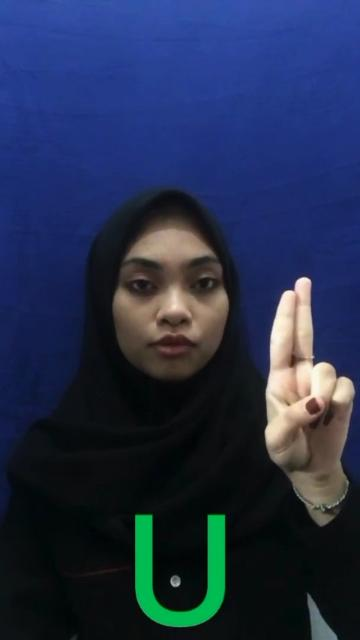U: (256, 270, 360, 476)
